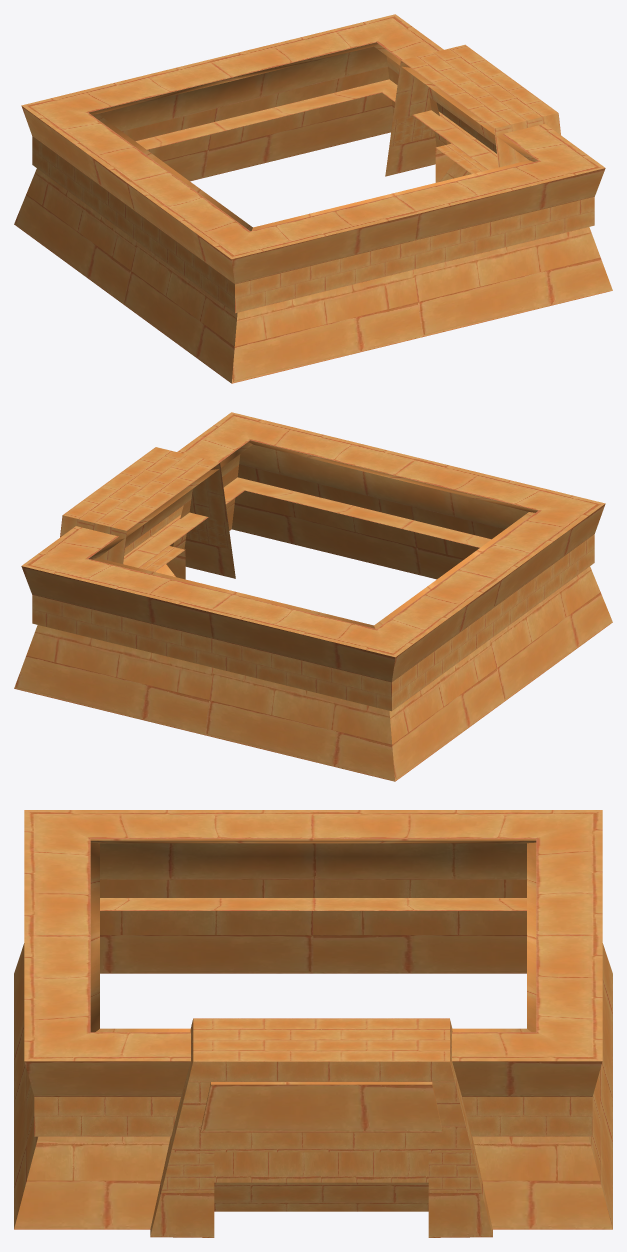
Rendered from temple-floor03.glb.
3 views of the same model, one above another, from view 1: azimuth 30°, elevation 25°; view 2: azimuth 150°, elevation 25°; view 3: azimuth 270°, elevation 25° (orthographic). The views are drawn at different scales.
Parts seen in each view (by area): view 1: TempleFloor03_Art; view 2: TempleFloor03_Art; view 3: TempleFloor03_Art.
Boxes of the visible parts, x1=… form: TempleFloor03_Art: x1=14, y1=14, x2=612, y2=383; TempleFloor03_Art: x1=14, y1=412, x2=612, y2=781; TempleFloor03_Art: x1=14, y1=810, x2=612, y2=1237.
Size of the model in its own units: 50.86 by 15.74 by 48.45.
Materials: 2 (2 with a texture image).
